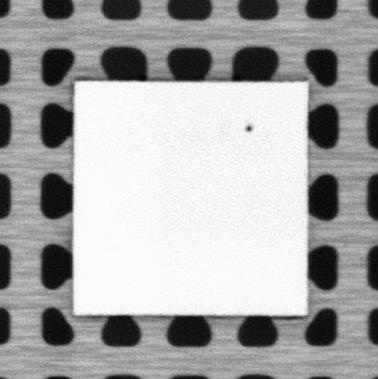DIE_INK: (243, 121, 255, 134)
